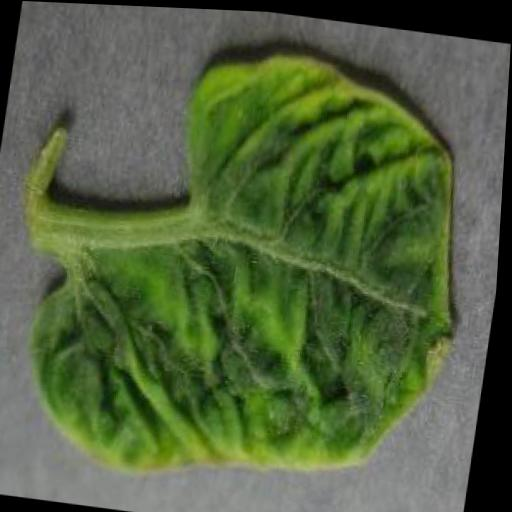Yellow Leaf Curl Virus: (13, 26, 495, 512)
